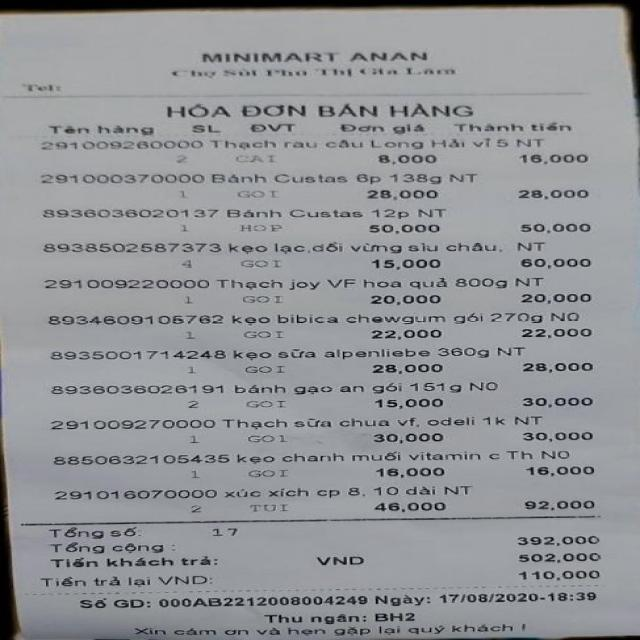Date: (437, 590, 539, 607)
Store_Name: (182, 44, 457, 66)
Total_Amount: (39, 535, 624, 554)
